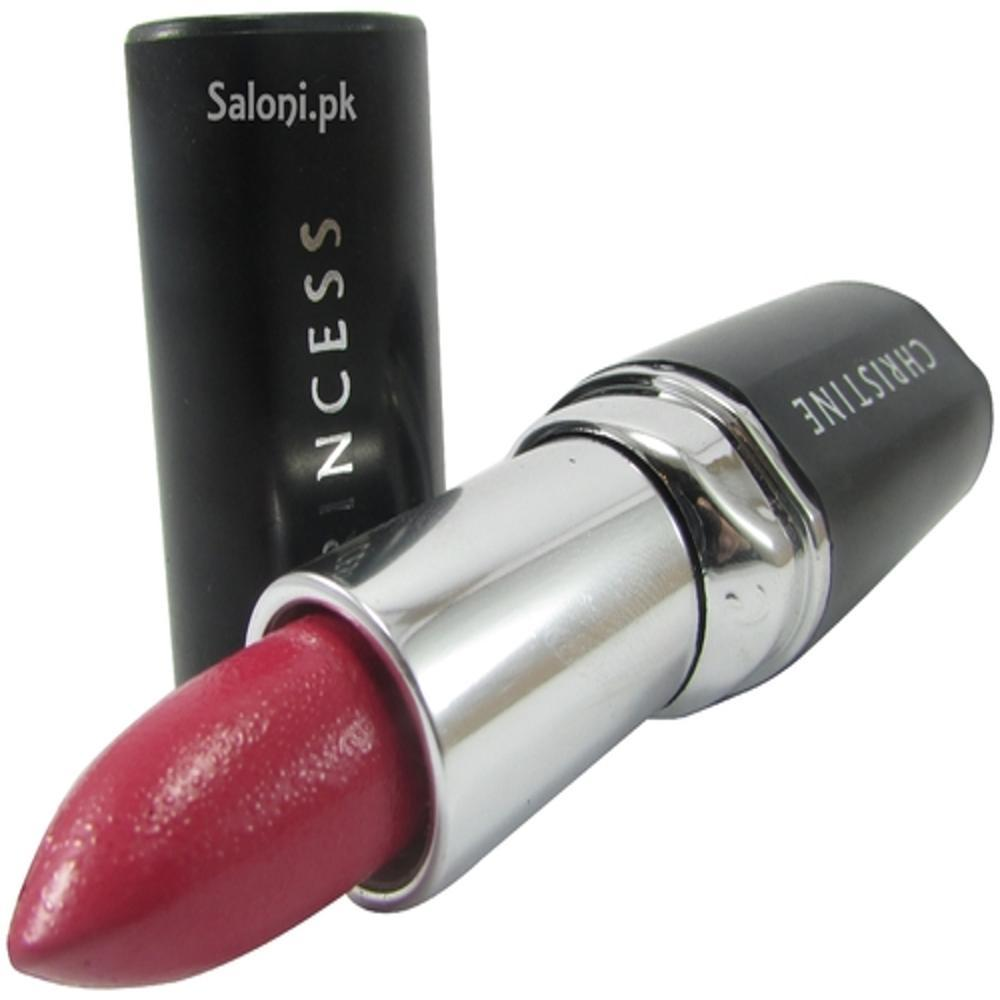lipstick: (11, 271, 1000, 1000)
